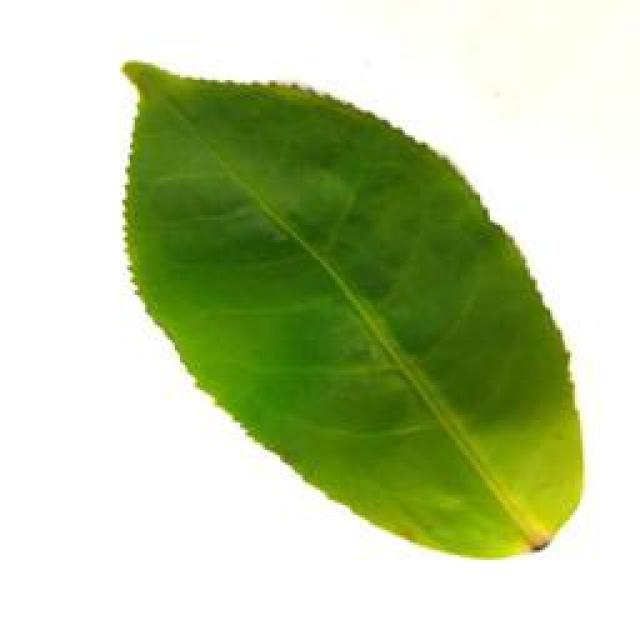Healthy: (119, 58, 584, 566)
